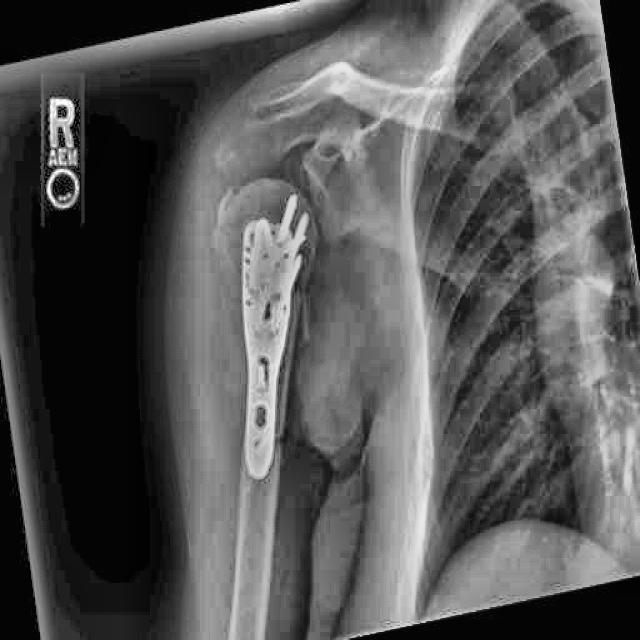shoulder fracture: (284, 42, 374, 131)
